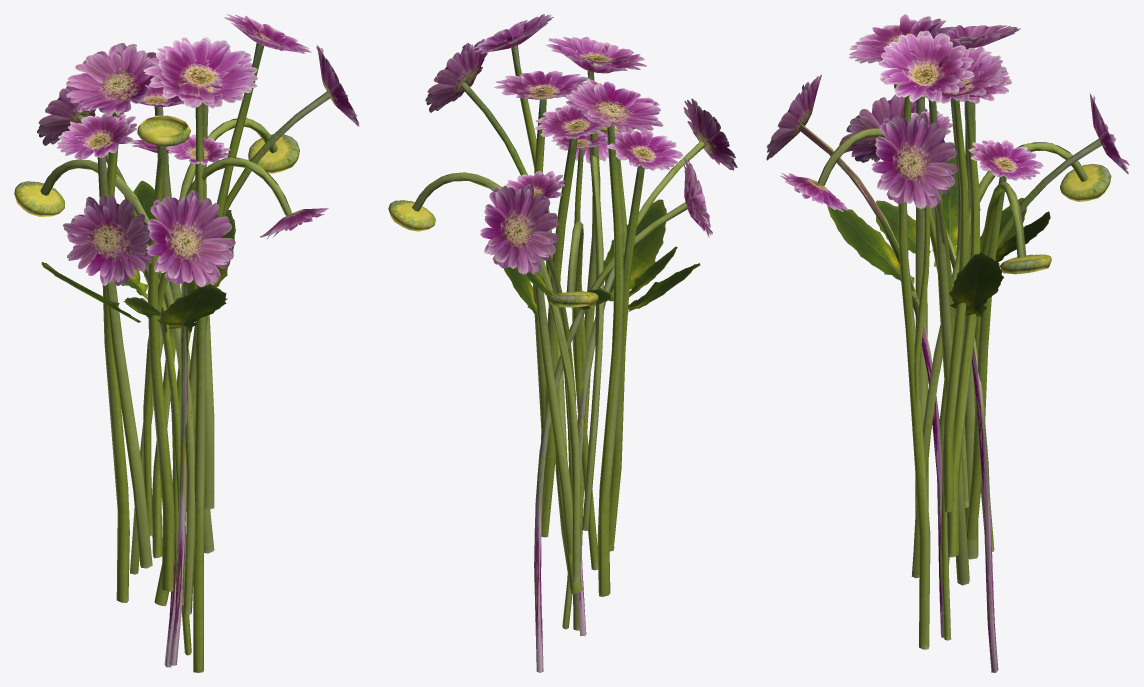
The model's file is flores.glb.
The picture shows the model from 3 angles, left to right: view 1: azimuth 30°, elevation 25°; view 2: azimuth 150°, elevation 25°; view 3: azimuth 270°, elevation 25°; orthographic projection. The views are drawn at different scales.
Parts seen in each view (by area): view 1: Plane.006; view 2: Plane.006; view 3: Plane.006.
Part boxes in pixels (left/top/right/bottom): Plane.006: left=14, top=14, right=359, bottom=672; Plane.006: left=388, top=14, right=737, bottom=672; Plane.006: left=766, top=14, right=1129, bottom=672.
Bounding box in the file's own units: 0.1827 × 0.3861 × 0.1941.
Materials: 1 (1 with a texture image).
